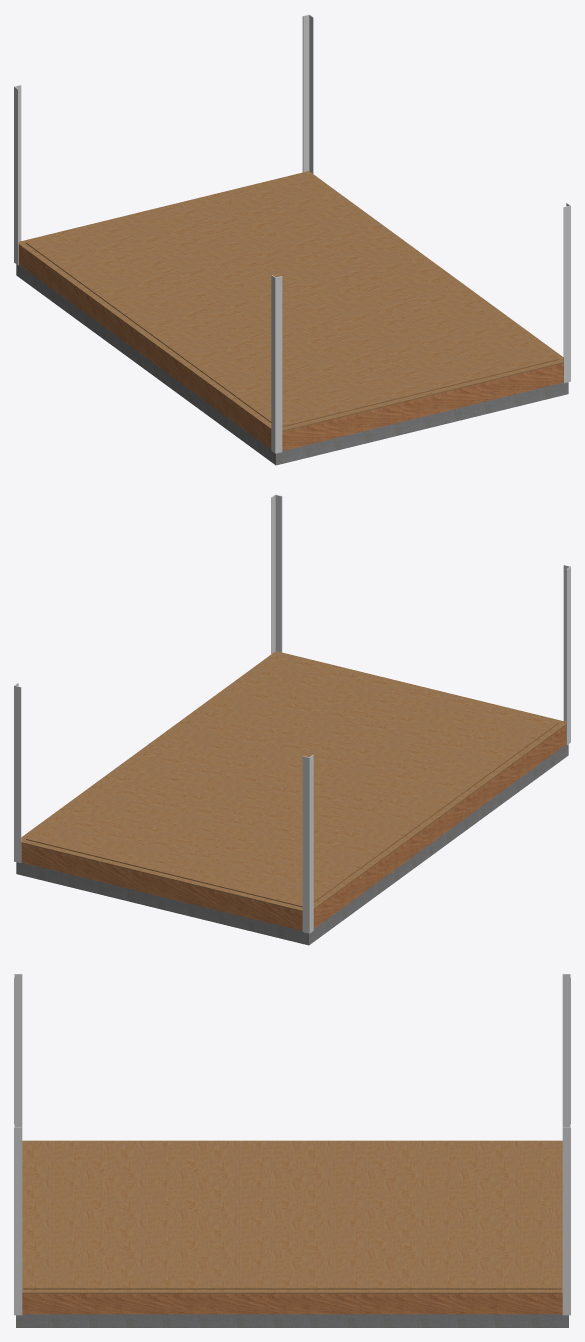
File: 1storey_16x24_GFBlock.glb
3 views of the same model, one above another, from view 1: azimuth 30°, elevation 25°; view 2: azimuth 150°, elevation 25°; view 3: azimuth 270°, elevation 25° (orthographic). The views are drawn at different scales.
Parts seen in each view (by area): view 1: GF_FloorFinish, GF_Framing, Concrete_foundation, Trims; view 2: GF_FloorFinish, GF_Framing, Concrete_foundation, Trims; view 3: GF_FloorFinish, GF_Framing, Concrete_foundation, Trims.
Part boxes in pixels (left/top/right/bottom): GF_FloorFinish: left=18, top=171, right=563, bottom=431; GF_Framing: left=18, top=245, right=563, bottom=450; Concrete_foundation: left=16, top=264, right=568, bottom=465; Trims: left=14, top=14, right=570, bottom=453; GF_FloorFinish: left=21, top=651, right=566, bottom=911; GF_Framing: left=21, top=725, right=566, bottom=930; Concrete_foundation: left=16, top=744, right=568, bottom=945; Trims: left=14, top=494, right=570, bottom=933; GF_FloorFinish: left=22, top=1140, right=562, bottom=1293; GF_Framing: left=22, top=1294, right=562, bottom=1314; Concrete_foundation: left=16, top=1314, right=568, bottom=1327; Trims: left=14, top=974, right=570, bottom=1315.
Size of the model in its own units: 4.93 by 3 by 7.54.
Materials: 4 (3 with a texture image).
